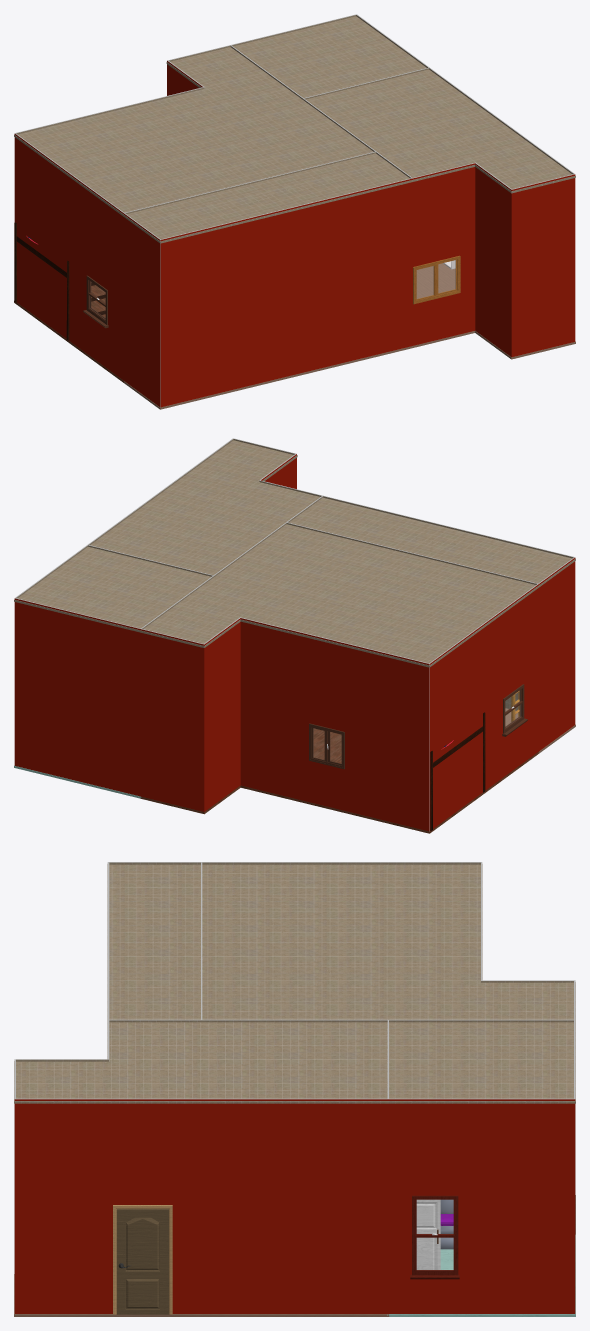
The model's file is ProcTHOR-Train-89.glb.
The picture shows the model from 3 angles, top to bottom: view 1: azimuth 30°, elevation 25°; view 2: azimuth 150°, elevation 25°; view 3: azimuth 270°, elevation 25°; orthographic projection. The views are drawn at different scales.
Parts seen in each view (by area): view 1: WallInside#wall|exterior|3.27|8.17|9.80|8.17, Ceiling#room|4|c, WallInside#wall|exterior|9.80|1.63|9.80|6.54, Ceiling#room|6|c, WallInside#wall|exterior|0.00|9.80|1.63|9.80, Ceiling#room|5|c, WallInside#wall|exterior|1.63|8.17|3.27|8.17, Ceiling#room|7|c, WallInside#wall|exterior|9.80|6.54|9.80|8.17, WallInside#wall|exterior|1.63|8.17|1.63|9.80, Floor#room|6|f, Window_Slider_48x36 (+6 smaller); view 2: WallInside#wall|exterior|4.90|1.63|9.80|1.63, Ceiling#room|4|c, WallInside#wall|exterior|0.00|0.00|3.27|0.00, WallInside#wall|exterior|9.80|1.63|9.80|6.54, Ceiling#room|6|c, WallInside#wall|exterior|3.27|0.00|4.90|0.00, Ceiling#room|7|c, Ceiling#room|5|c, WallInside#wall|exterior|9.80|6.54|9.80|8.17, WallInside#wall|exterior|4.90|0.00|4.90|1.63, Floor#room|4|f, Window_Slider_36x36 (+5 smaller); view 3: WallInside#wall|exterior|0.00|3.27|0.00|9.80, Ceiling#room|4|c, WallInside#wall|exterior|0.00|0.00|0.00|3.27, Ceiling#room|6|c, Ceiling#room|7|c, Ceiling#room|5|c, Doorway_6, Doorway_8_open, Window_Hung_32x60, Floor#room|6|f, Floor#room|7|f, WallInside#wall|4|9.80|1.63|9.80|6.54.
Part boxes in pixels (left/top/right/bottom): WallInside#wall|exterior|3.27|8.17|9.80|8.17: left=160, top=178, right=412, bottom=407; Ceiling#room|4|c: left=14, top=47, right=374, bottom=216; WallInside#wall|exterior|9.80|1.63|9.80|6.54: left=14, top=133, right=123, bottom=380; Ceiling#room|6|c: left=303, top=69, right=575, bottom=193; WallInside#wall|exterior|0.00|9.80|1.63|9.80: left=511, top=174, right=575, bottom=356; Ceiling#room|5|c: left=123, top=153, right=413, bottom=243; WallInside#wall|exterior|1.63|8.17|3.27|8.17: left=412, top=163, right=475, bottom=345; Ceiling#room|7|c: left=233, top=16, right=426, bottom=99; WallInside#wall|exterior|9.80|6.54|9.80|8.17: left=123, top=213, right=160, bottom=406; WallInside#wall|exterior|1.63|8.17|1.63|9.80: left=475, top=163, right=511, bottom=356; Floor#room|6|f: left=413, top=263, right=575, bottom=359; Window_Slider_48x36: left=413, top=255, right=460, bottom=304; WallInside#wall|exterior|4.90|1.63|9.80|1.63: left=240, top=618, right=429, bottom=831; Ceiling#room|4|c: left=140, top=524, right=538, bottom=667; WallInside#wall|exterior|0.00|0.00|3.27|0.00: left=14, top=598, right=141, bottom=796; WallInside#wall|exterior|9.80|1.63|9.80|6.54: left=429, top=584, right=538, bottom=830; Ceiling#room|6|c: left=88, top=440, right=319, bottom=575; WallInside#wall|exterior|3.27|0.00|4.90|0.00: left=140, top=629, right=204, bottom=811; Ceiling#room|7|c: left=14, top=547, right=214, bottom=632; Ceiling#room|5|c: left=289, top=497, right=575, bottom=587; WallInside#wall|exterior|9.80|6.54|9.80|8.17: left=538, top=557, right=575, bottom=751; WallInside#wall|exterior|4.90|0.00|4.90|1.63: left=204, top=617, right=240, bottom=811; Floor#room|4|f: left=140, top=728, right=538, bottom=833; Window_Slider_36x36: left=309, top=723, right=344, bottom=769; WallInside#wall|exterior|0.00|3.27|0.00|9.80: left=14, top=1099, right=388, bottom=1313; Ceiling#room|4|c: left=200, top=864, right=575, bottom=1021; WallInside#wall|exterior|0.00|0.00|0.00|3.27: left=387, top=1099, right=575, bottom=1313; Ceiling#room|6|c: left=14, top=1022, right=389, bottom=1103; Ceiling#room|7|c: left=387, top=1022, right=575, bottom=1103; Ceiling#room|5|c: left=107, top=864, right=202, bottom=1021; Doorway_6: left=113, top=1205, right=172, bottom=1314; Doorway_8_open: left=416, top=1199, right=440, bottom=1269; Window_Hung_32x60: left=410, top=1195, right=459, bottom=1279; Floor#room|6|f: left=14, top=1274, right=389, bottom=1316; Floor#room|7|f: left=387, top=1235, right=575, bottom=1316; WallInside#wall|4|9.80|1.63|9.80|6.54: left=202, top=862, right=481, bottom=864.
Size of what is drawn, in the model's own units: 10.05 by 4.21 by 9.85.
Materials: 215 (92 with a texture image).
